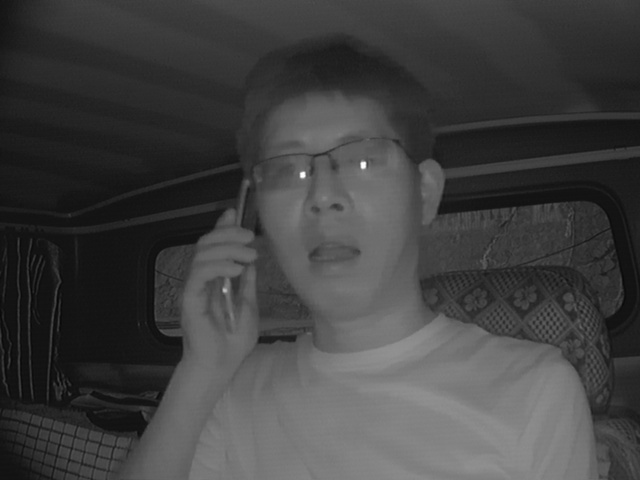hand: (175, 210, 265, 367)
